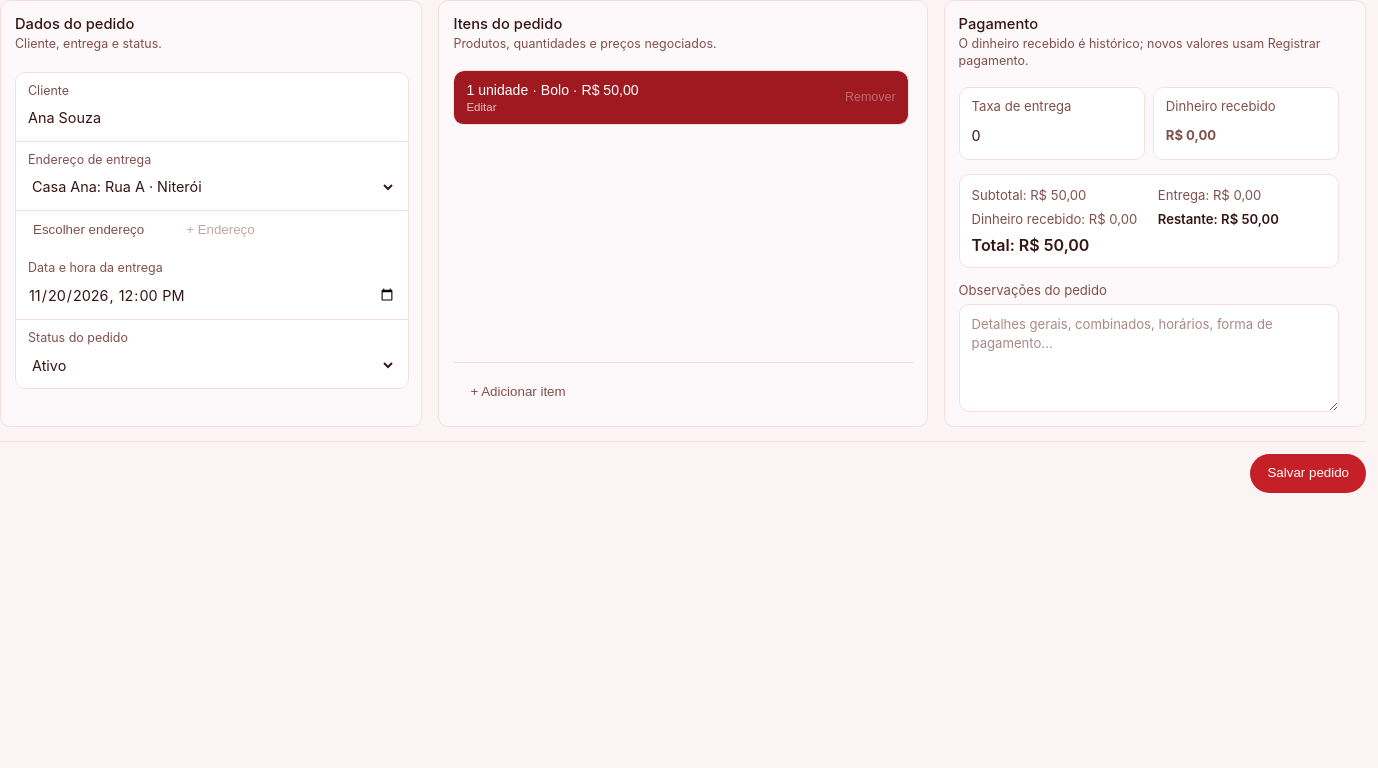
OrderForm client autocomplete › blocks duplicate registration for an inactive exact-name client
Replace the text in the dropdown labelled "Cliente" with "bruno lima". click: (212, 118)
box: x1=28 y1=105 x2=396 y2=131
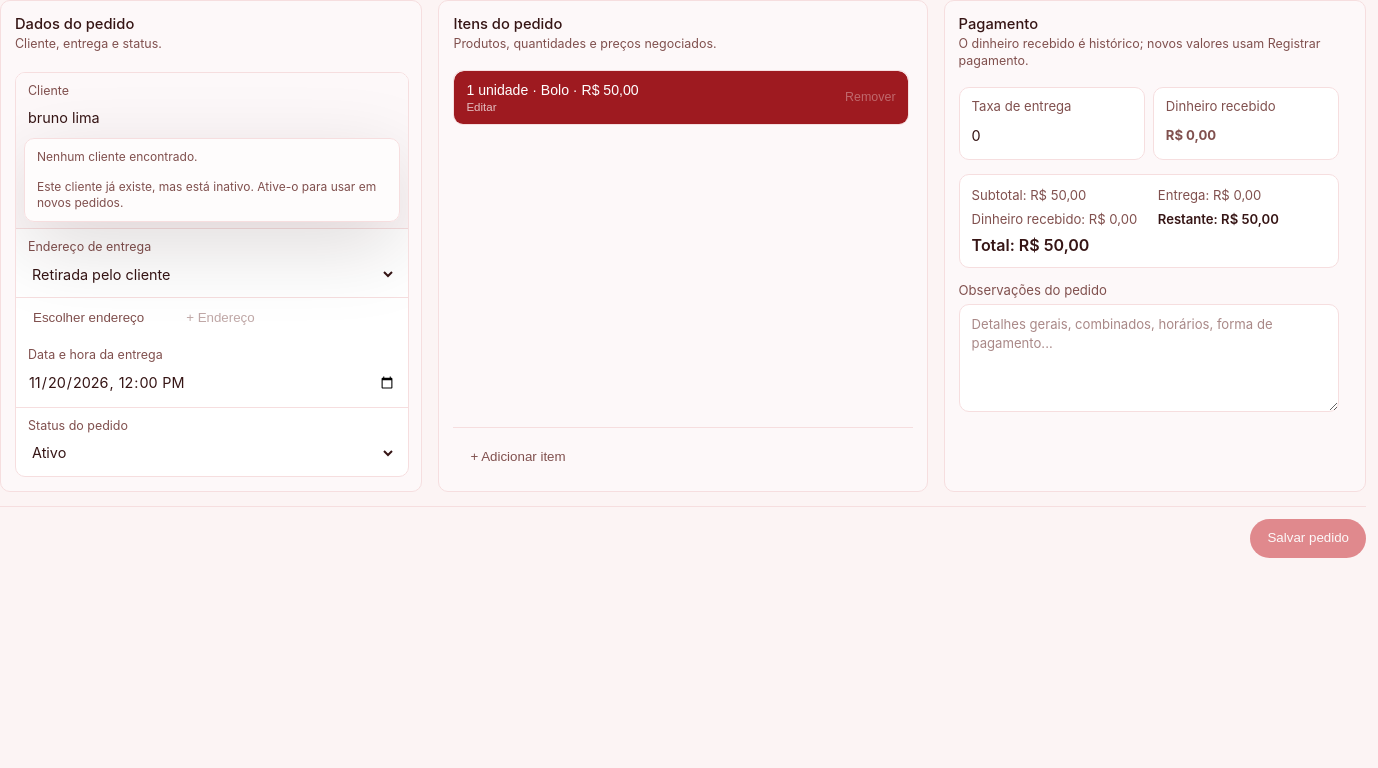
Expected: the text "já existe, mas está inativo" is shown, x1=37 y1=179 x2=376 y2=210
